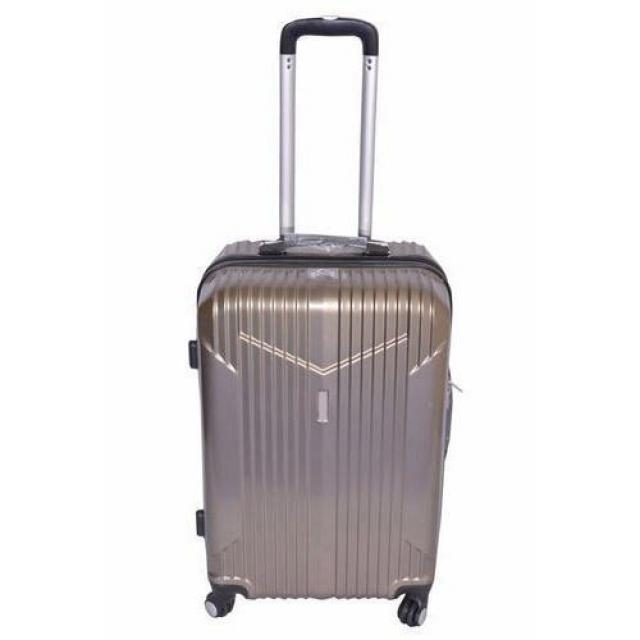luggage: (174, 218, 468, 617)
